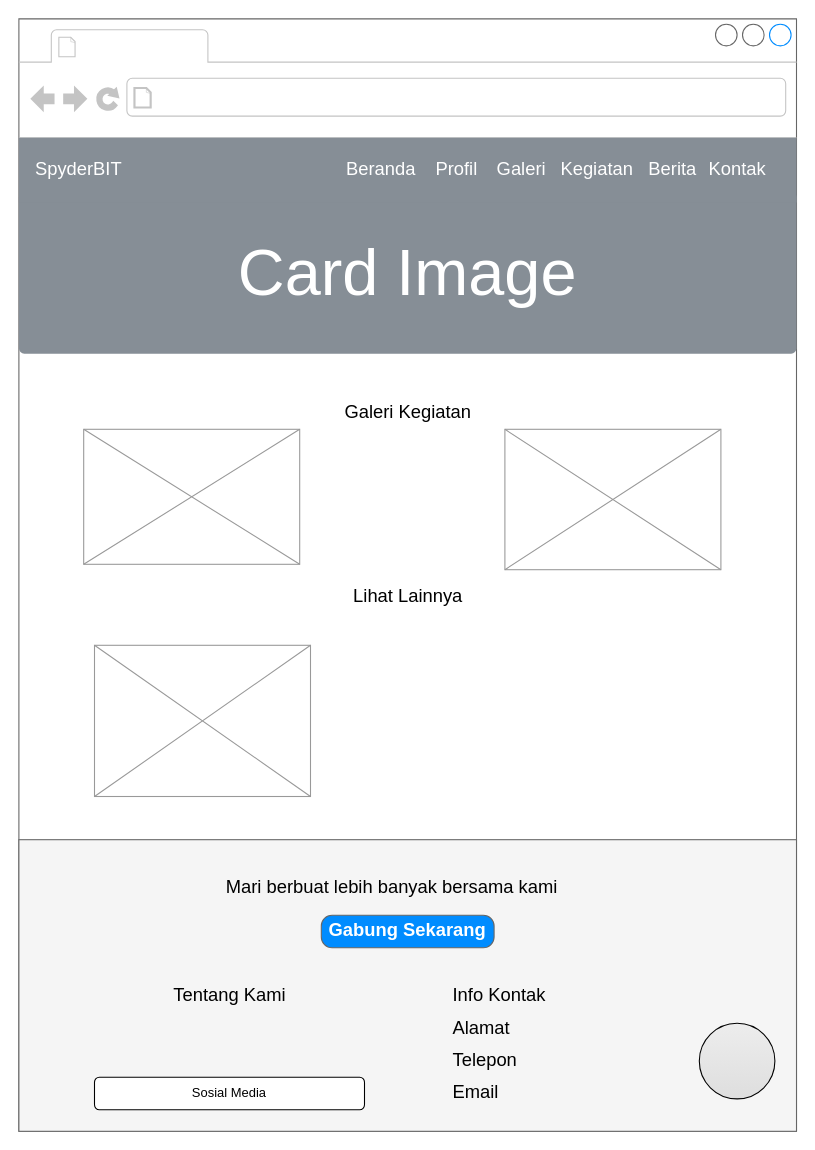
Some shapes in this 815 by 1150 pixel diagram are drawn without their labels. Each missing label, with the centre of its shape:
https://www.draw.io: [293,97]
Page 1: [142,45]
